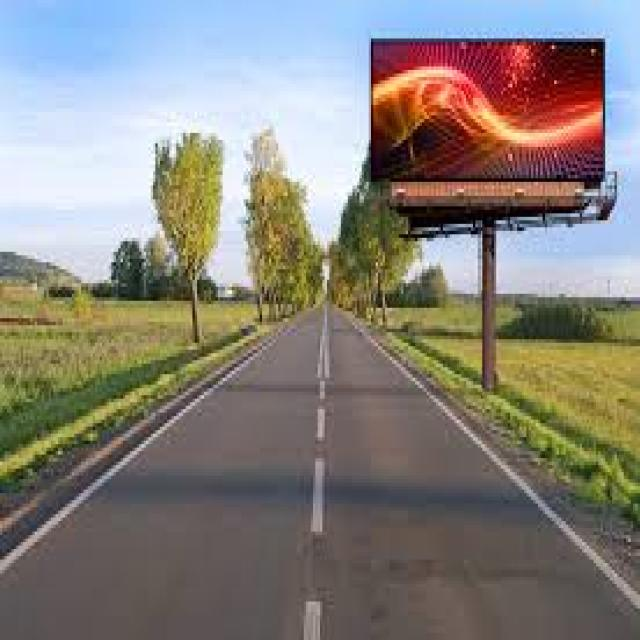Billboard_RHS: (368, 24, 622, 226)
Roadcorner: (0, 317, 293, 605), (361, 329, 638, 619)
Roadlane: (297, 311, 341, 637)
